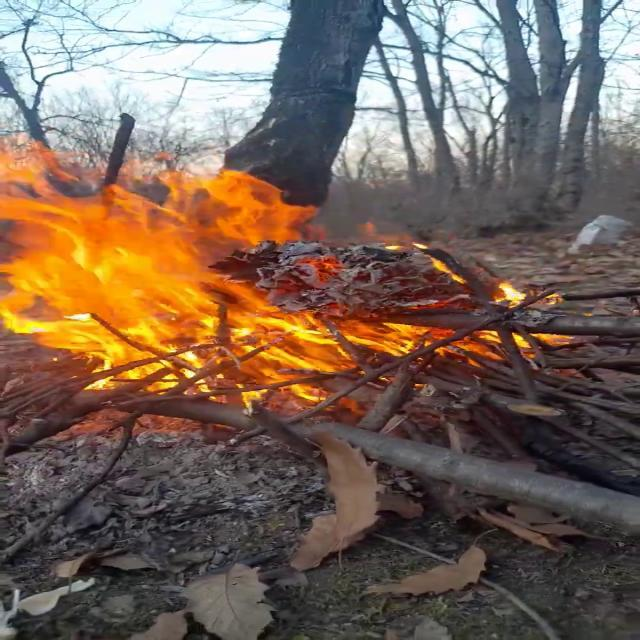Fire: (2, 147, 570, 400)
